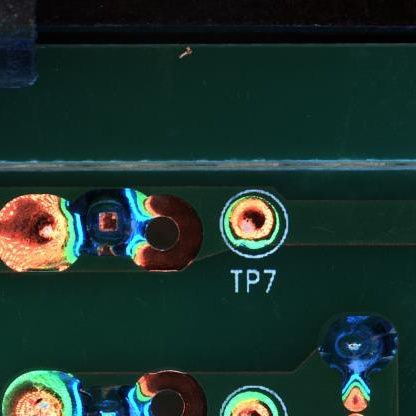spot: (68, 188, 144, 256), (321, 312, 399, 371), (224, 194, 280, 251)
